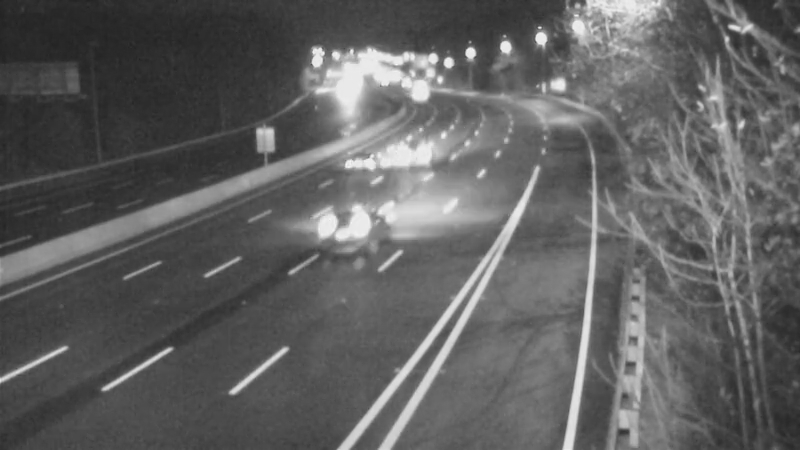vehicle: (377, 112, 457, 192), (318, 126, 398, 206), (312, 172, 392, 252), (393, 67, 443, 117)
